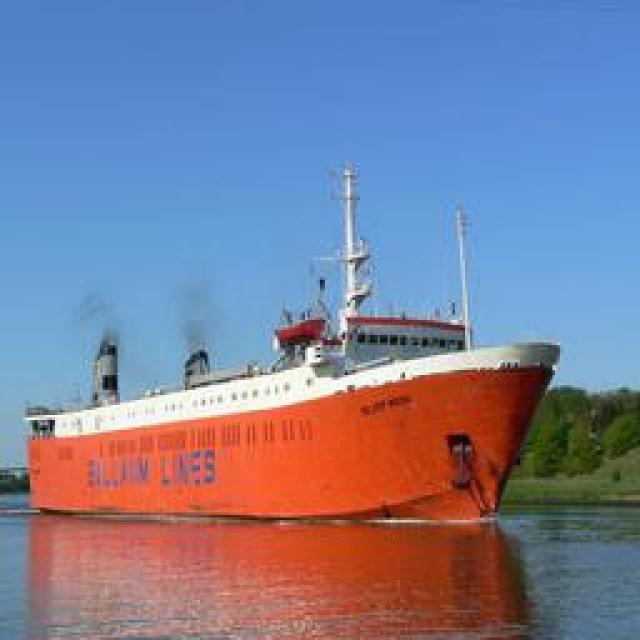ship2: (25, 163, 563, 525)
